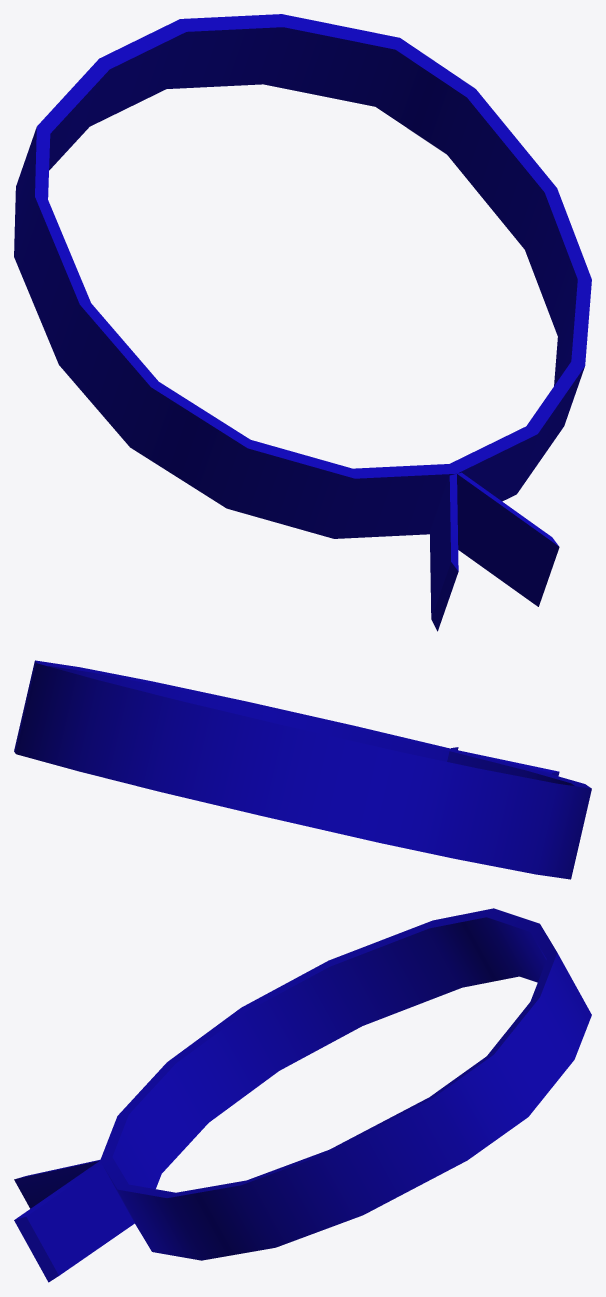
File: headband_basic.glb
The picture shows the model from 3 angles, top to bottom: view 1: azimuth 30°, elevation 25°; view 2: azimuth 150°, elevation 25°; view 3: azimuth 270°, elevation 25°; orthographic projection. The views are drawn at different scales.
Visible parts, largest first — view 1: 0.085; view 2: 0.085; view 3: 0.085.
Part boxes in pixels (box(x1,y1,x2,y2)): 0.085: box(14, 14, 591, 631); 0.085: box(14, 660, 591, 879); 0.085: box(14, 908, 591, 1282).
Bounding box in the file's own units: 0.4725 × 0.3547 × 0.6001.
